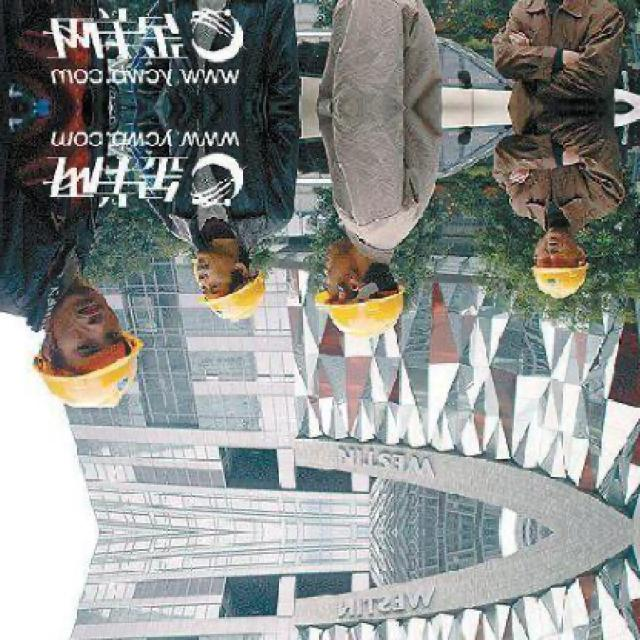con casco: (308, 216, 442, 370), (17, 289, 153, 425), (182, 217, 288, 336), (511, 218, 616, 316)
